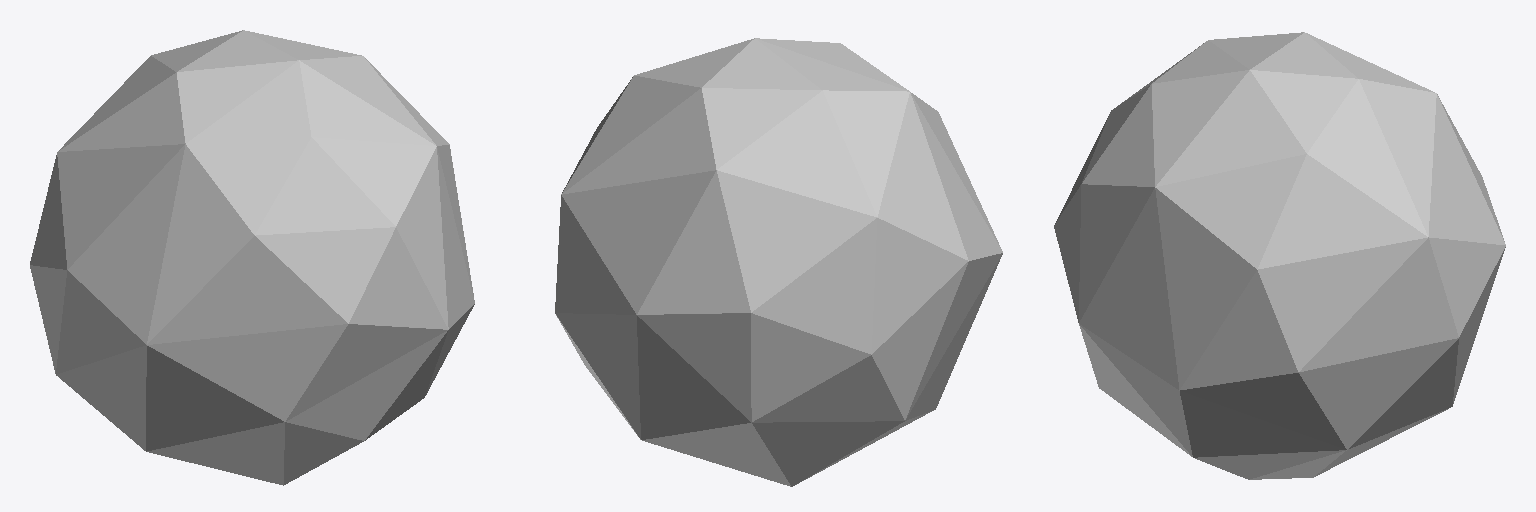
Rendered from UI_bloodcell.obj.
The picture shows the model from 3 angles: view 1: azimuth 30°, elevation 25°; view 2: azimuth 150°, elevation 25°; view 3: azimuth 270°, elevation 25°; orthographic projection.
Visible parts, largest first — view 1: Sphere; view 2: Sphere; view 3: Sphere.
Part boxes in pixels (x1,y1,x2,y2): Sphere: (30,30,474,485); Sphere: (555,38,1002,486); Sphere: (1054,32,1505,479).
Size of the model in its own units: 2.03 by 1.99 by 2.04.